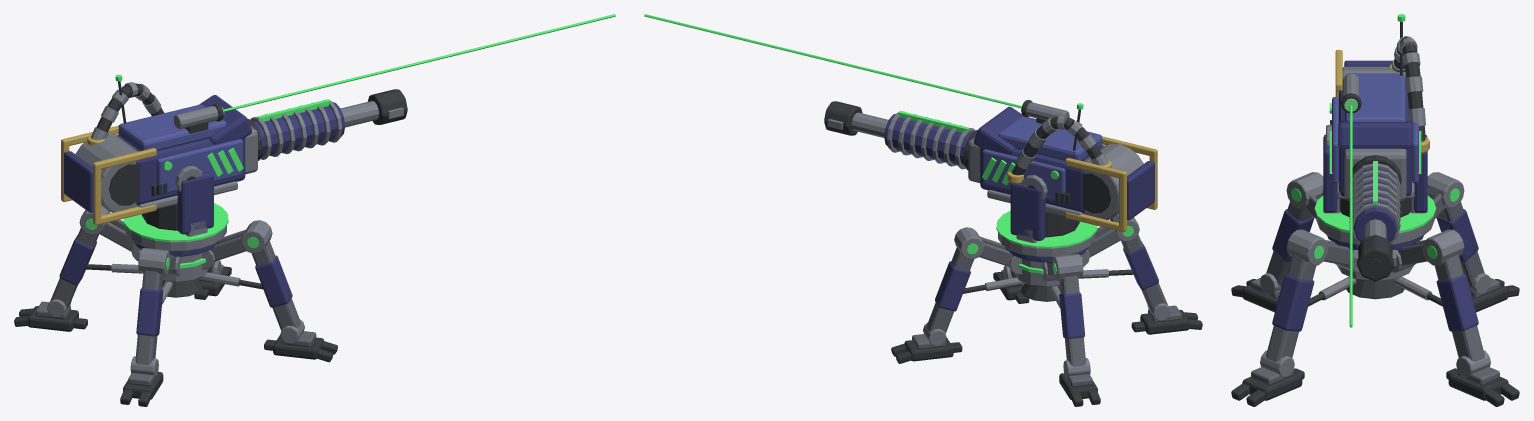
Rendered from torreta_ametralladora.fbx.
The picture shows the model from 3 angles, left to right: view 1: azimuth 30°, elevation 25°; view 2: azimuth 150°, elevation 25°; view 3: azimuth 270°, elevation 25°; orthographic projection. The views are drawn at different scales.
Parts seen in each view (by area): view 1: Pivot, Base, Barrel, Laser; view 2: Pivot, Base, Barrel, Laser; view 3: Base, Pivot, Barrel, Laser.
Part boxes in pixels (x1,y1,x2,y2): Pivot: (61,74,262,251); Base: (14,206,337,406); Barrel: (250,89,407,159); Laser: (223,14,615,111); Pivot: (963,100,1157,257); Base: (891,213,1202,406); Barrel: (824,101,975,169); Laser: (644,14,1021,108); Base: (1231,172,1519,406); Pivot: (1314,14,1436,245); Barrel: (1352,161,1400,281); Laser: (1349,105,1352,327).
Bounding box in the file's own units: 1002 × 474 × 405.
1 material, 1 textured.
